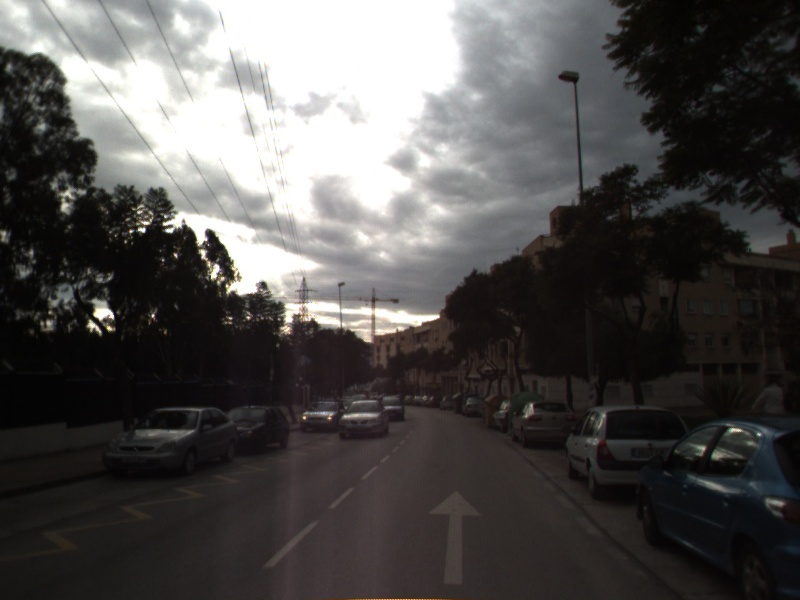STRAIGHT: (426, 488, 485, 587)
